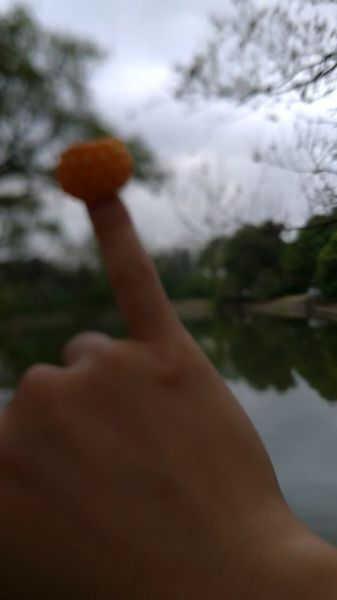eggs: (54, 138, 138, 202)
